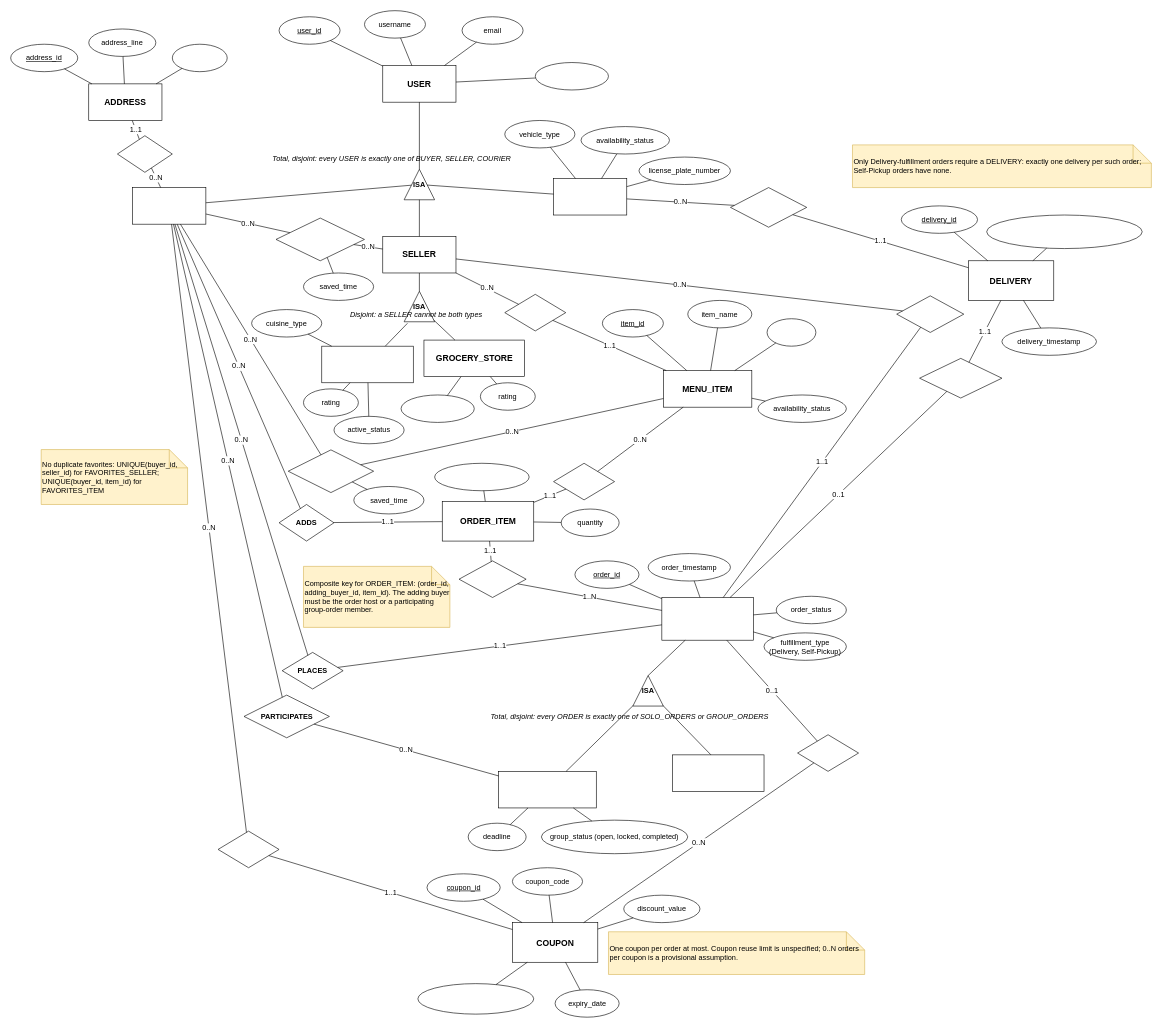
Some shapes in this 1162 by 1028 pixel diagram are drawn without their labels. Each missing label, with the centre of its shape:
"APPLIES" belongs at (x=828, y=752).
"ASSIGNED_TO" belongs at (x=768, y=207).
"BUYER" belongs at (x=169, y=205).
"CONTAINS" belongs at (x=492, y=578).
"COURIER" belongs at (x=590, y=196).
"delivery_status (Assigned, Picked Up, Delivered)" belongs at (x=1064, y=231).
"FAVORITES_ITEM" belongs at (x=331, y=471).
"FAVORITES_SELLER" belongs at (x=319, y=239).
"FULFILLS" belongs at (x=930, y=313).
"GROUP_ORDERS" belongs at (x=547, y=789).
"HAS_DELIVERY" belongs at (x=960, y=378).
"label" belongs at (x=199, y=58).
"minimum_spend_threshold" belongs at (x=475, y=998).
"OFFERS" belongs at (x=535, y=312).
"ORDERS" belongs at (x=707, y=618).
"OWNS" belongs at (x=248, y=849).
"phone_number" belongs at (x=571, y=76).
"price" belongs at (x=791, y=332).
"RESTAURANT" belongs at (x=367, y=364).
"SAVES" belongs at (x=144, y=153).
"SELECTS" belongs at (x=584, y=481).
"SOLO_ORDERS" belongs at (x=718, y=772).
"store_category" belongs at (x=437, y=408).
"unit_price_snapshot" belongs at (x=481, y=477).
